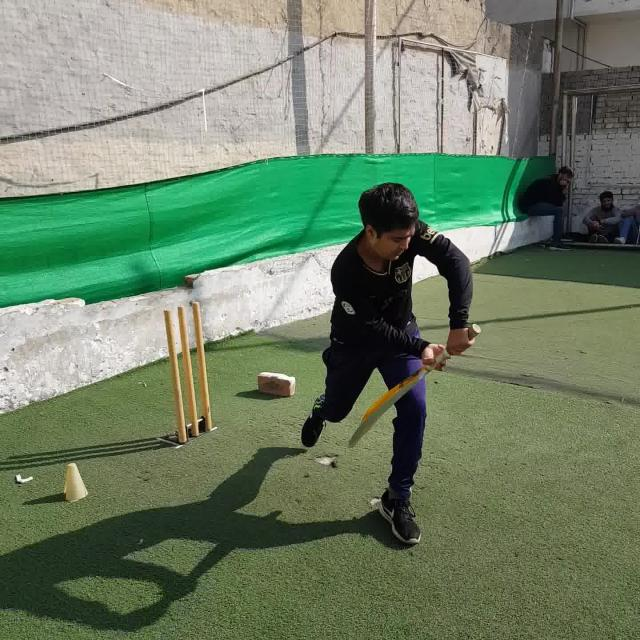bat: (348, 323, 483, 448)
